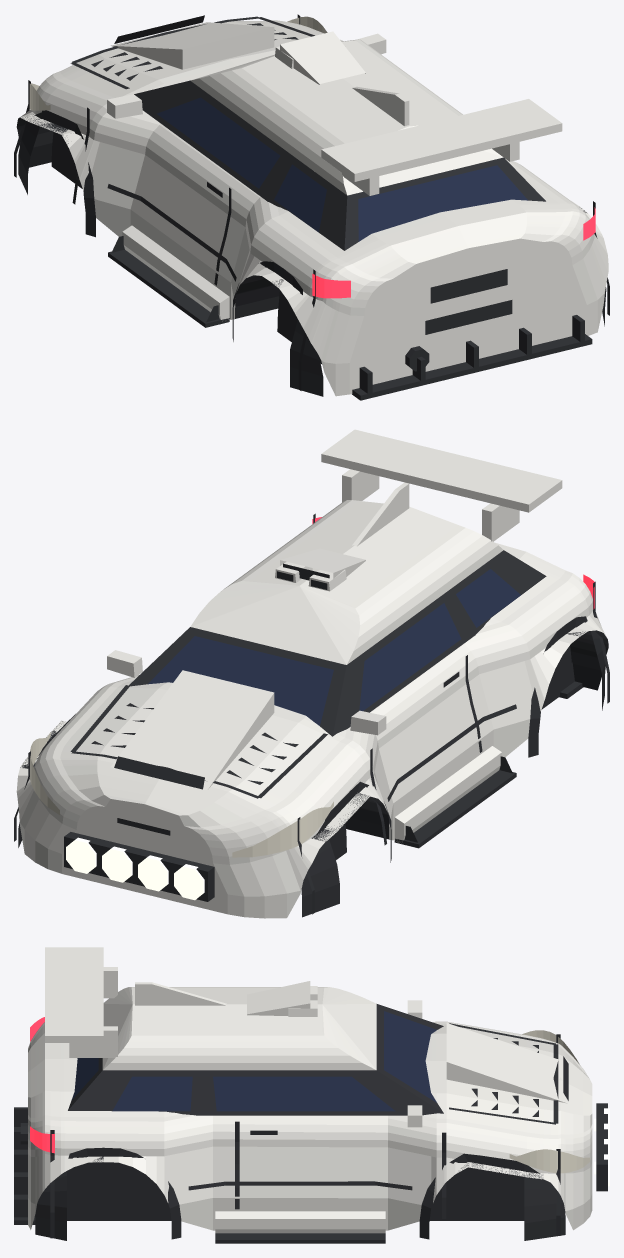
The model's file is Lynx.fbx.
3 views of the same model, one above another, from view 1: azimuth 30°, elevation 25°; view 2: azimuth 150°, elevation 25°; view 3: azimuth 270°, elevation 25° (orthographic). The views are drawn at different scales.
Parts seen in each view (by area): view 1: BumperRear, Roof, Door_FL, Opt_Wing_Rally_WingBlade, Fender_RL, Pillars, RearWindow, Opt_Hood_Scoop_HoodScoop, Window_FL, Opt_Diffuser_Race_AccDiffuserRace, Hood, Cowl (+21 smaller); view 2: Roof, BumperFront, Fender_RL, Door_FL, Opt_Hood_Scoop_HoodScoop, Hood, Opt_Wing_Rally_WingBlade, Pillars, Windshield, Fender_FL, Window_FL, Opt_Bumper_Lamps_RallyLamp (+21 smaller); view 3: Door_FR, Roof, Fender_RR, WheelWell, Pillars, Opt_Hood_Scoop_HoodScoop, Window_FR, Opt_Wing_Rally_WingBlade, Hood, BumperFront, Fender_FR, Opt_Skirts_Side_AccSkirt_R (+20 smaller).
Boxes of the visible parts, x1,y1,x2,y2 form: BumperRear: (303,208,608,396); Roof: (190,39,503,195); Door_FL: (74,104,248,287); Opt_Wing_Rally_WingBlade: (321,99,562,181); Fender_RL: (218,188,346,328); Pillars: (134,80,545,250); RearWindow: (358,165,527,241); Opt_Hood_Scoop_HoodScoop: (111,22,274,69); Window_FL: (156,97,280,188); Opt_Diffuser_Race_AccDiffuserRace: (352,315,592,400); Hood: (60,21,315,97); Cowl: (123,50,557,256); Roof: (190,500,503,664); BumperFront: (17,759,307,918); Fender_RL: (451,573,606,757); Door_FL: (340,653,481,840); Opt_Hood_Scoop_HoodScoop: (111,670,274,790); Hood: (60,687,339,809); Opt_Wing_Rally_WingBlade: (321,429,562,512); Pillars: (129,550,546,736); Windshield: (148,636,333,725); Fender_FL: (265,742,382,869); Window_FL: (359,603,461,711); Opt_Bumper_Lamps_RallyLamp: (66,837,204,900); Door_FR: (235,1115,446,1230); Roof: (102,987,376,1070); Fender_RR: (50,1114,234,1230); WheelWell: (38,1162,565,1220); Pillars: (68,1004,443,1115); Opt_Hood_Scoop_HoodScoop: (446,1023,567,1103); Window_FR: (213,1076,395,1111); Opt_Wing_Rally_WingBlade: (45,947,103,1042); Hood: (446,1027,560,1134); BumperFront: (561,1045,592,1230); Fender_FR: (446,1119,560,1195); Opt_Skirts_Side_AccSkirt_R: (215,1211,385,1233).
Bounding box in the file's own units: 646 × 440 × 1225.
